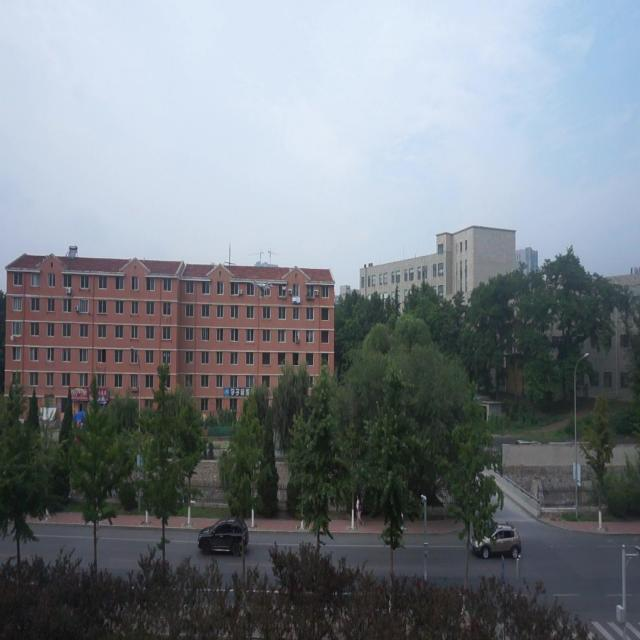UAV: (252, 281, 274, 299)
